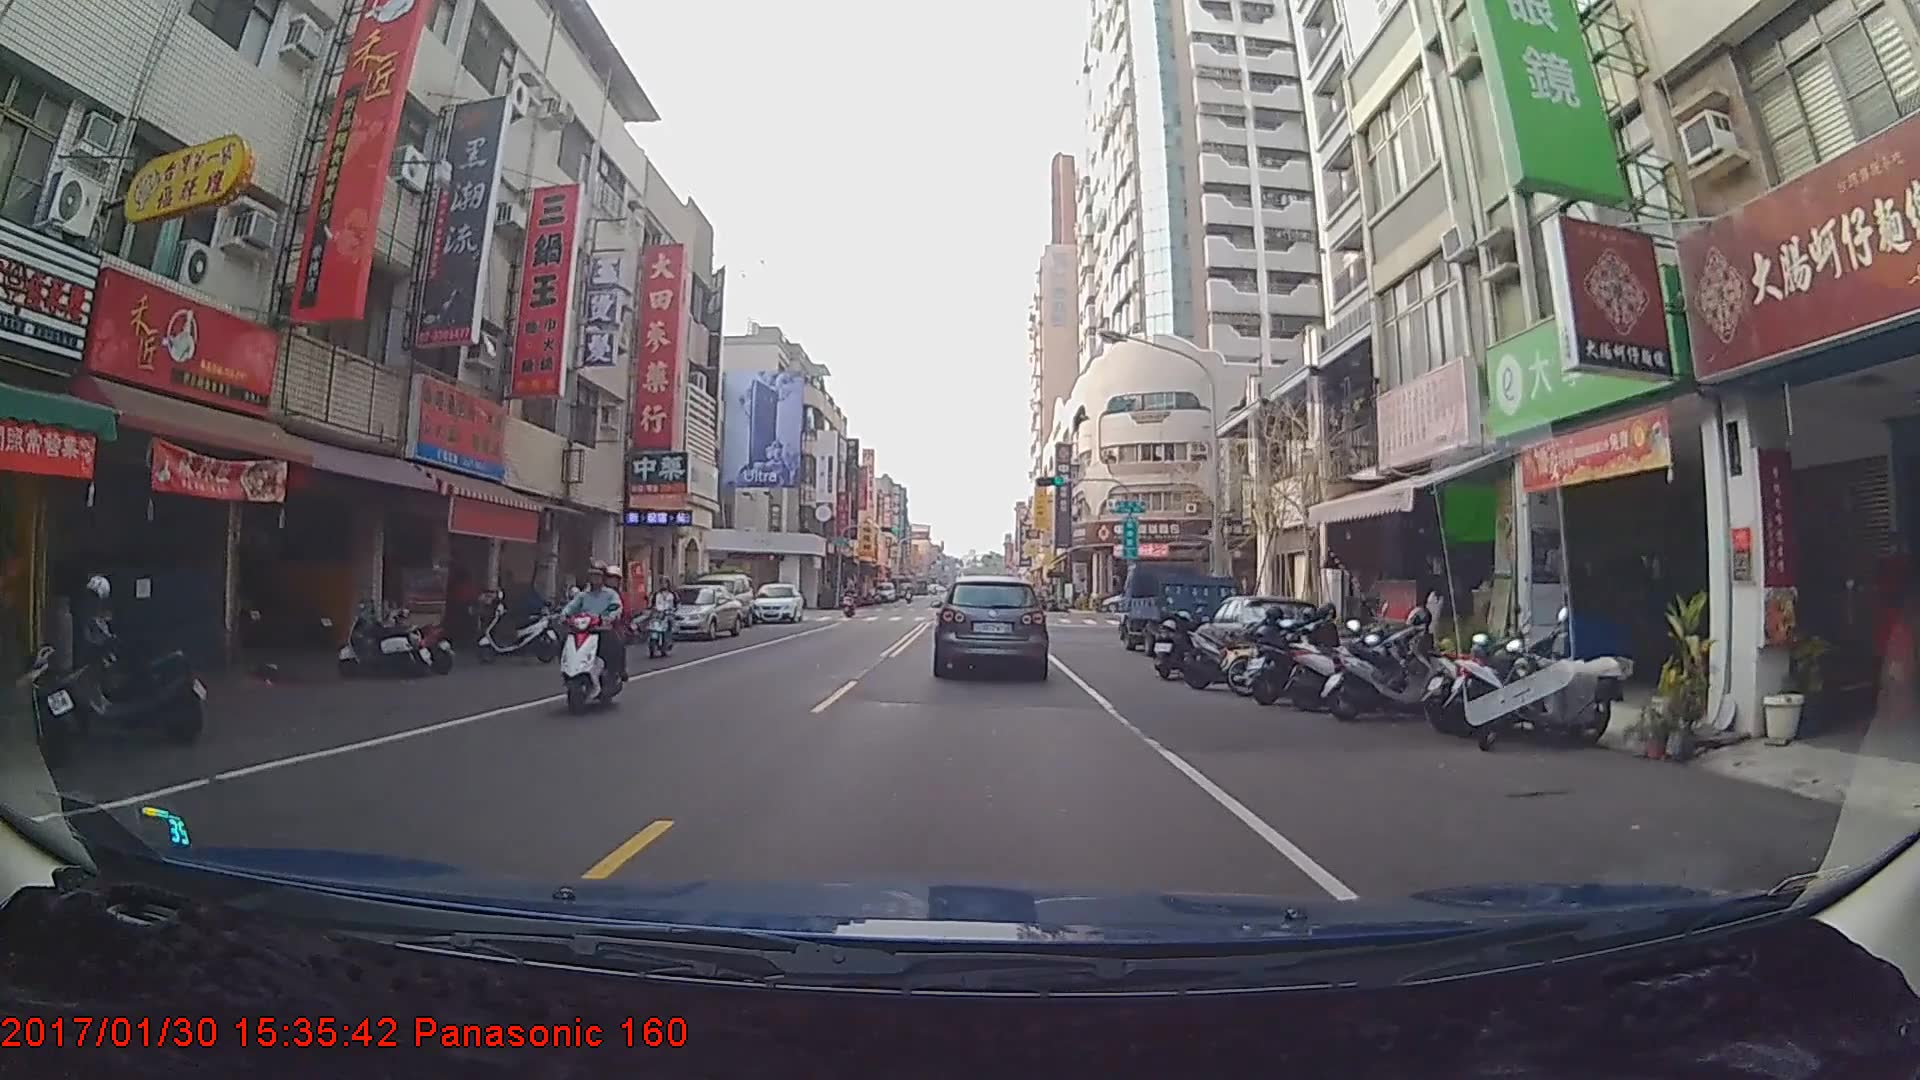rider: (553, 564, 634, 720), (650, 577, 680, 664), (840, 578, 860, 616)
vehicle: (1117, 560, 1242, 652), (936, 573, 1047, 676), (644, 584, 743, 639), (750, 577, 802, 621)
